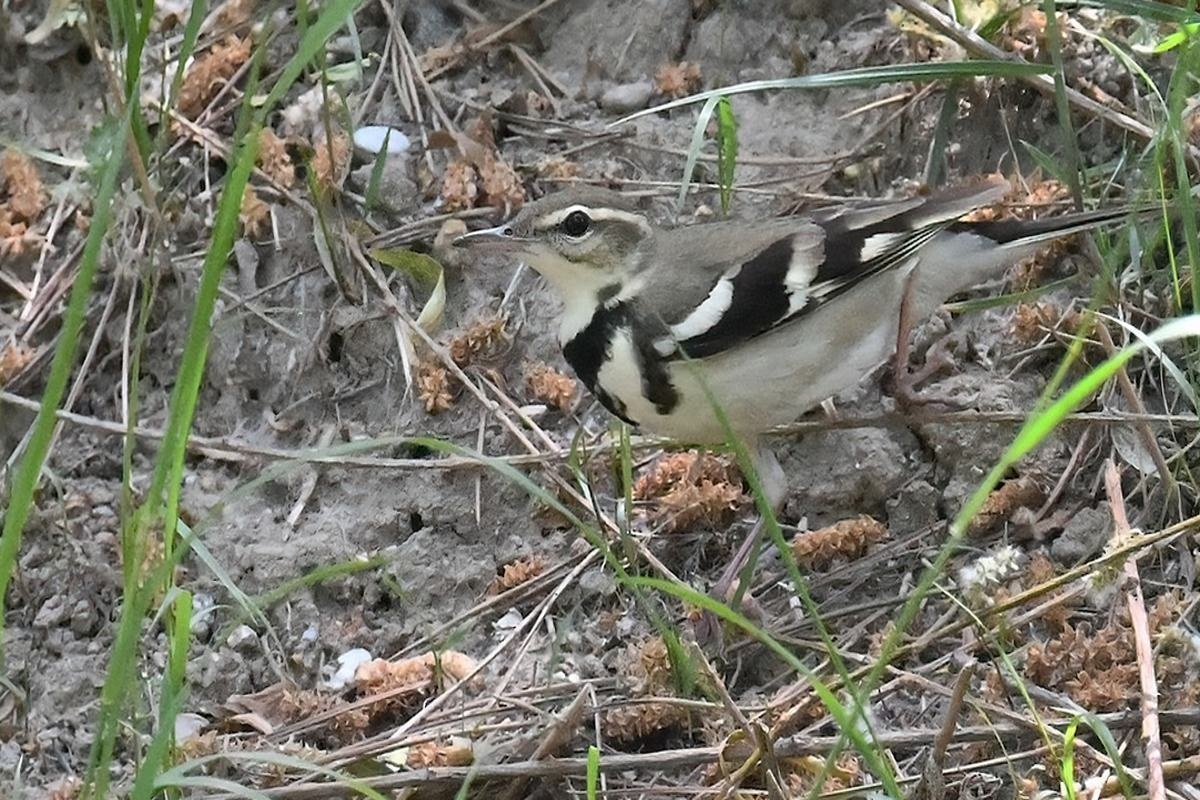wagtail: (423, 160, 1063, 518)
